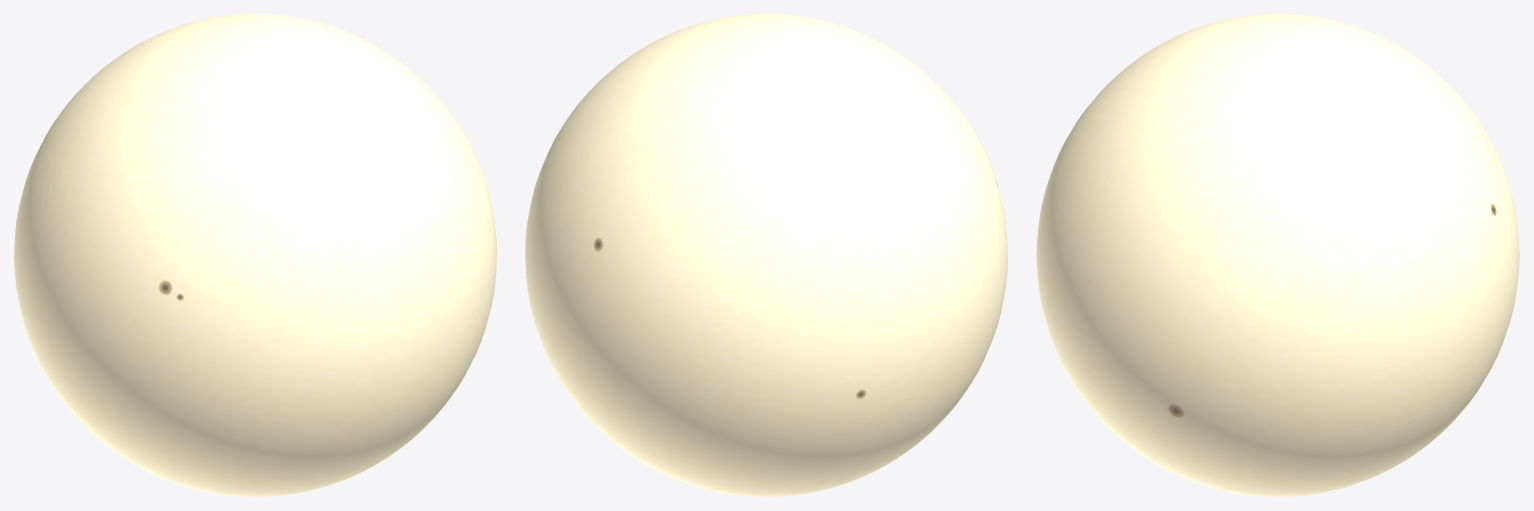
File: sun.glb
3 views of the same model, side by side, from view 1: azimuth 30°, elevation 25°; view 2: azimuth 150°, elevation 25°; view 3: azimuth 270°, elevation 25° (orthographic).
Parts seen in each view (by area): view 1: model; view 2: model; view 3: model.
Part boxes in pixels (x1,y1,x2,y2): model: (14, 14, 496, 496); model: (525, 14, 1007, 496); model: (1036, 14, 1519, 496).
Size of the model in its own units: 2 by 2 by 2.
Materials: 1 (1 with a texture image).
